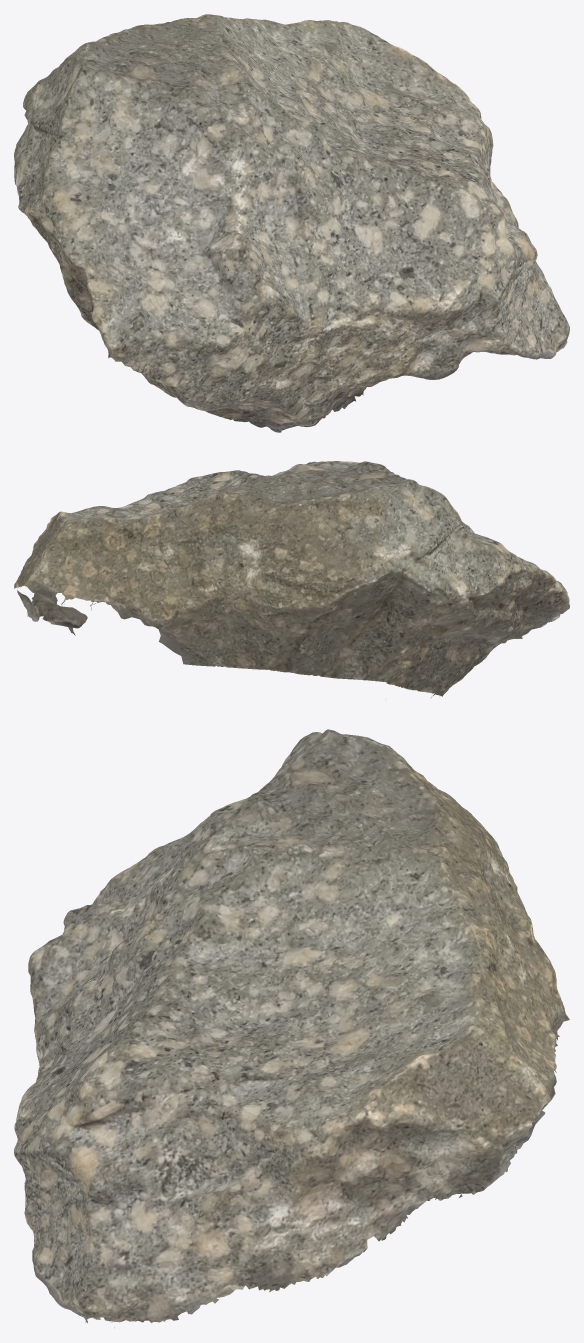
The model's file is andesite_plagioclase_porphyritic.glb.
3 renders of one model, top to bottom at view 1: azimuth 30°, elevation 25°; view 2: azimuth 150°, elevation 25°; view 3: azimuth 270°, elevation 25°, orthographic. The views are drawn at different scales.
Visible parts, largest first — view 1: Object_4; view 2: Object_4; view 3: Object_4.
Boxes of the visible parts, left/top/right/bottom form: Object_4: left=14, top=14, right=569, bottom=432; Object_4: left=14, top=461, right=569, bottom=698; Object_4: left=14, top=729, right=569, bottom=1328.
Bounding box in the file's own units: 2.91 × 1.92 × 2.37.
Materials: 1 (1 with a texture image).
